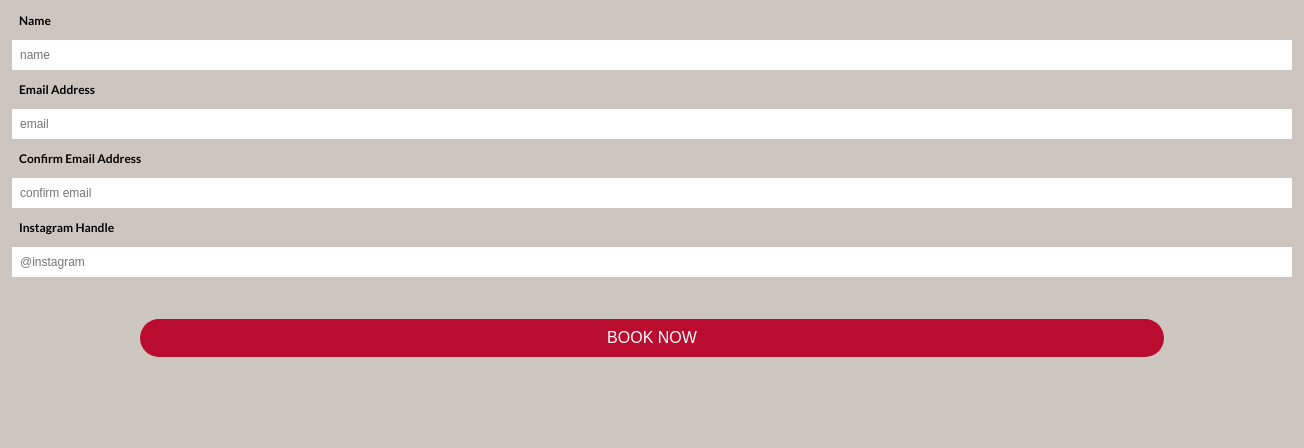
Test: AuthForm › Behavior › should display error message on submit if emails don't match
The image size is (1304, 448).
Step 1. Type "smirnoff@@gmail.com" into the field with placeholder "Email" → (652, 124), box left=12, top=109, right=1292, bottom=139
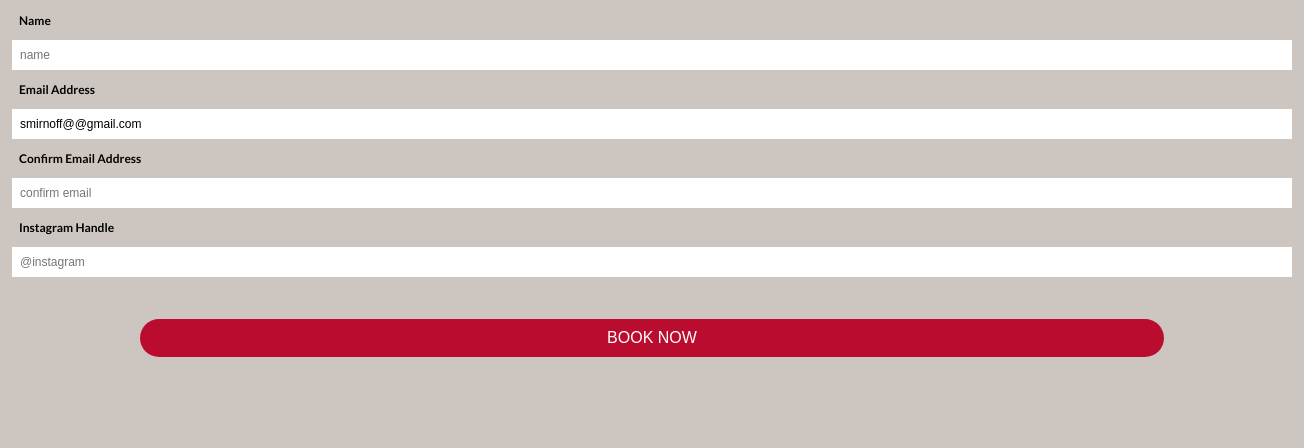
Step 2. Type "smirnoff@@yahoo.com" into the field with placeholder "Confirm Email" → (652, 193), box left=12, top=178, right=1292, bottom=208
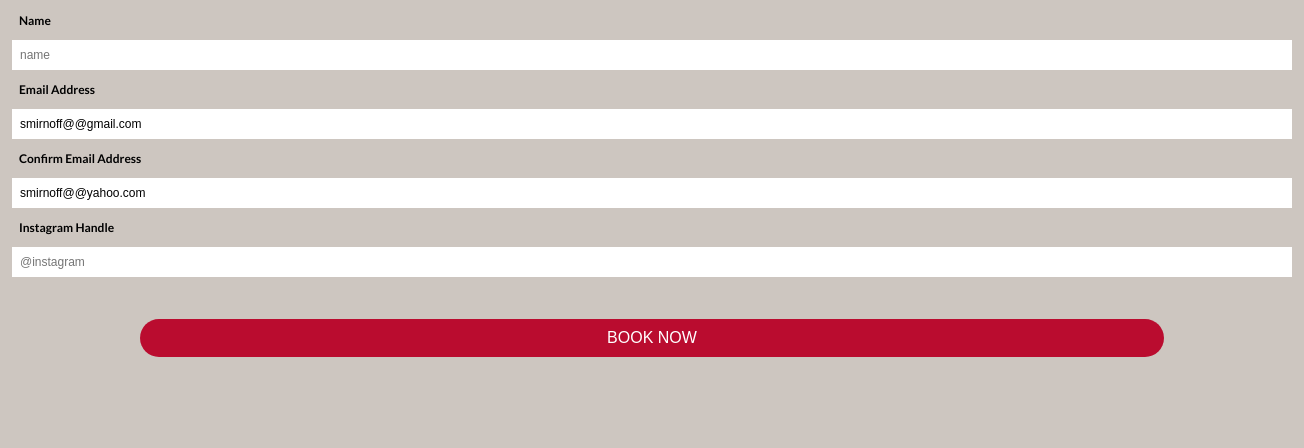
Step 3. Click the button → (652, 338), box left=140, top=319, right=1164, bottom=357
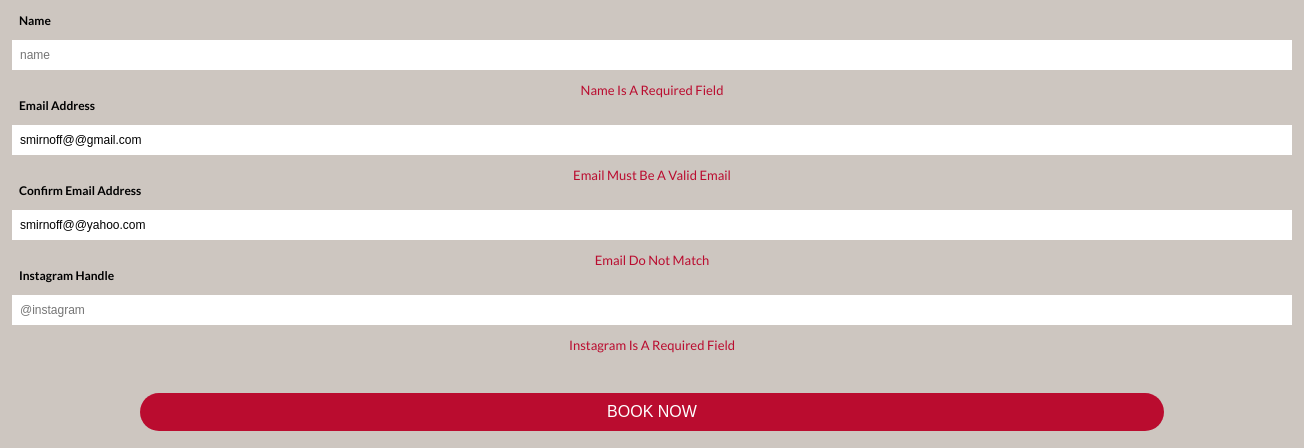
expect the message named "confirm-email-error" is shown: met, box left=595, top=252, right=709, bottom=268
